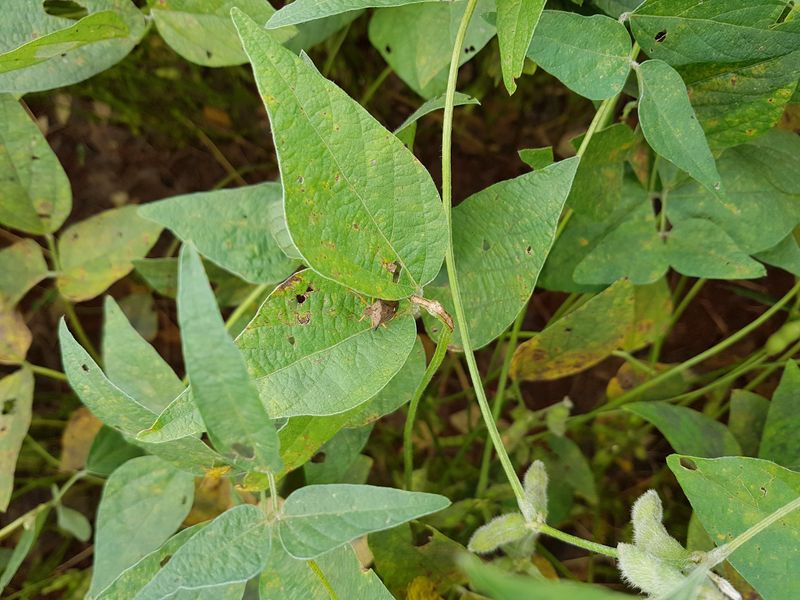Euschistus_heros_adulto: (349, 287, 407, 338)
